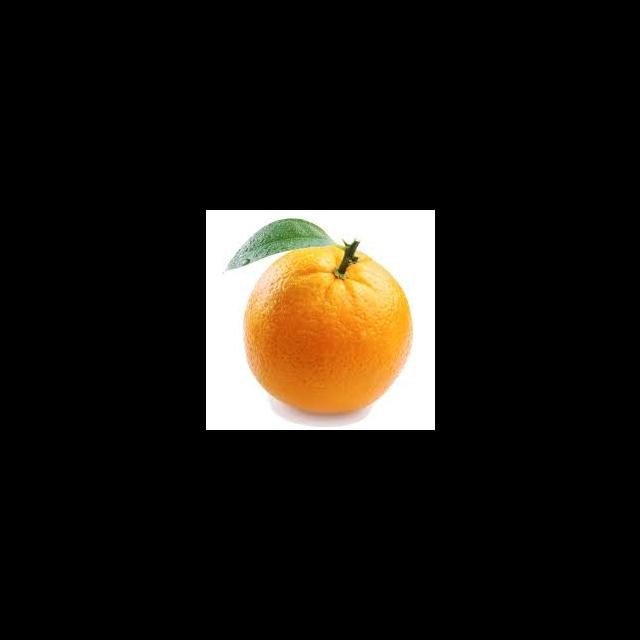orange: (226, 223, 424, 422)
